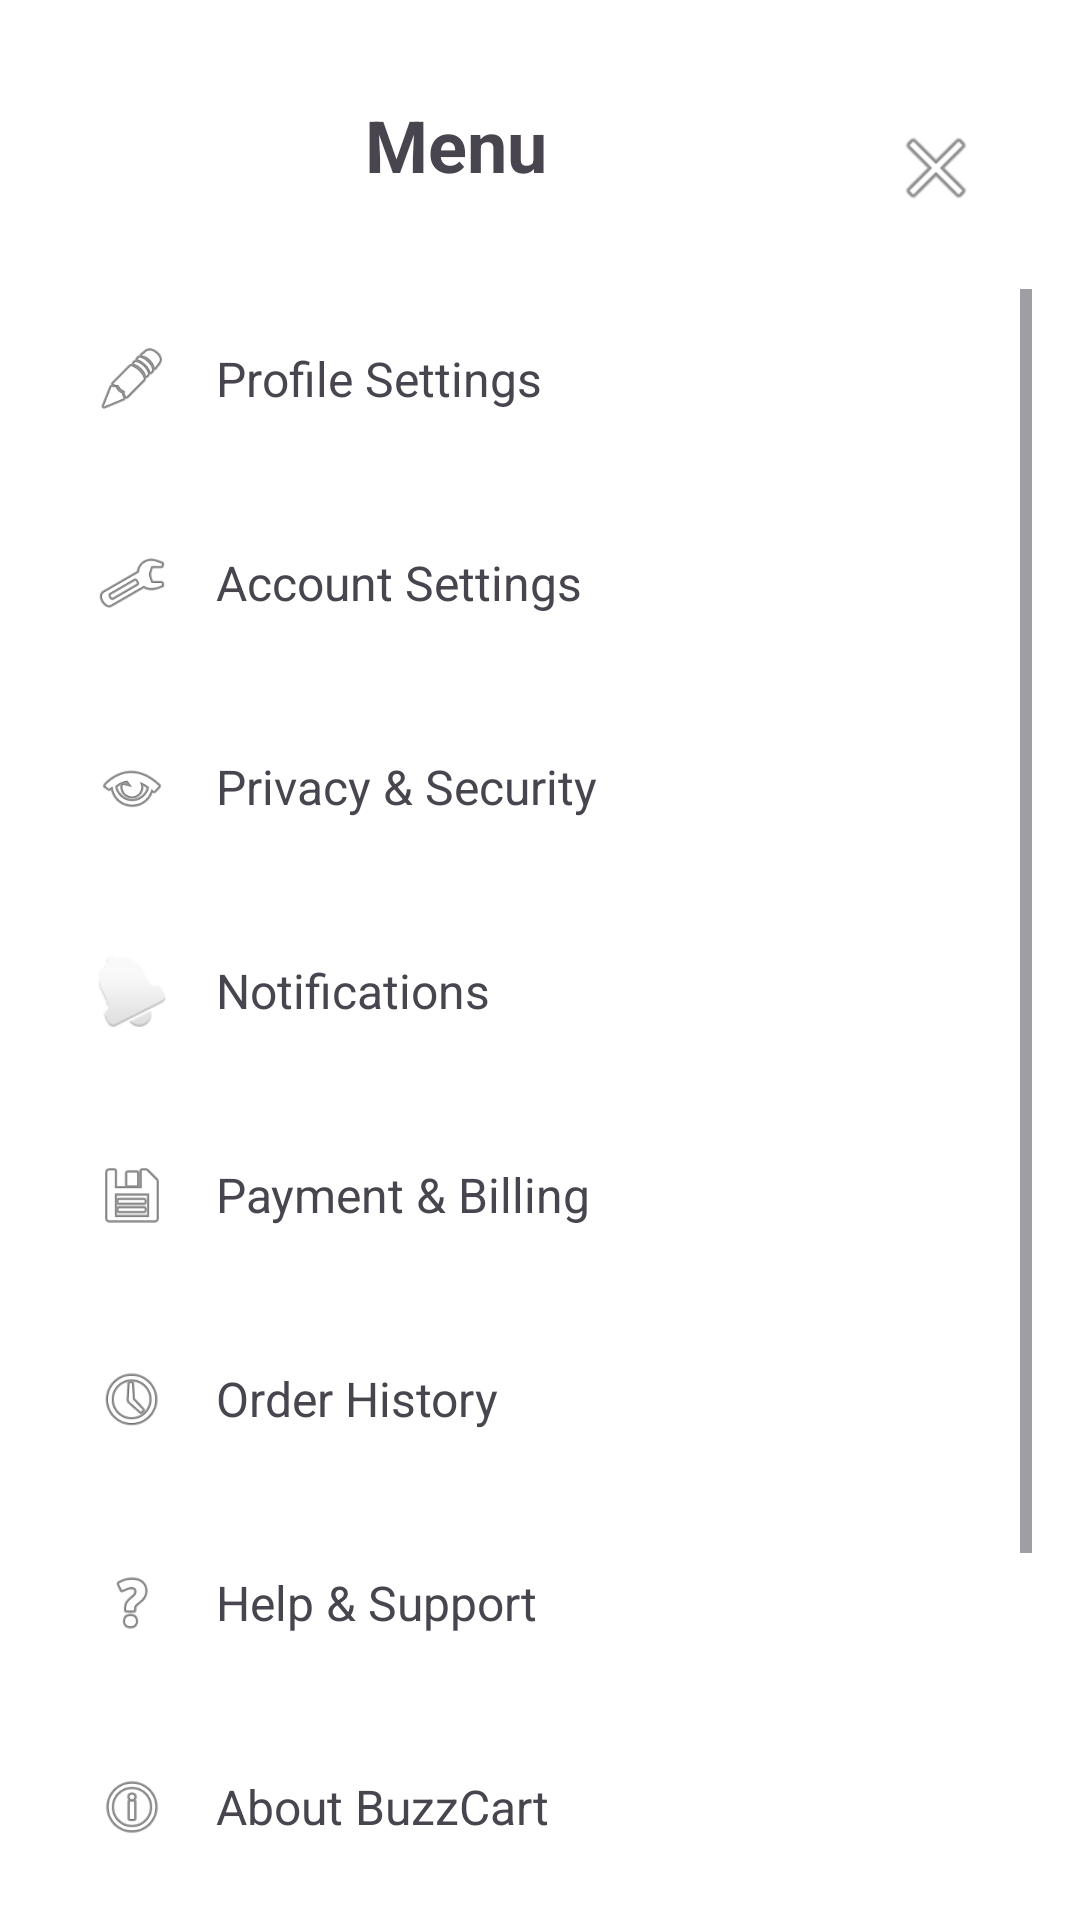

Where icons sit on this 1080×1920 app screen, as (x1, y1, x2, y2):
Close: (906, 138, 966, 198)
edit: (101, 348, 162, 409)
info details: (106, 1781, 158, 1833)
manage: (99, 558, 164, 608)
recent history: (105, 1373, 158, 1425)
save: (105, 1168, 159, 1223)
view: (103, 770, 161, 807)
